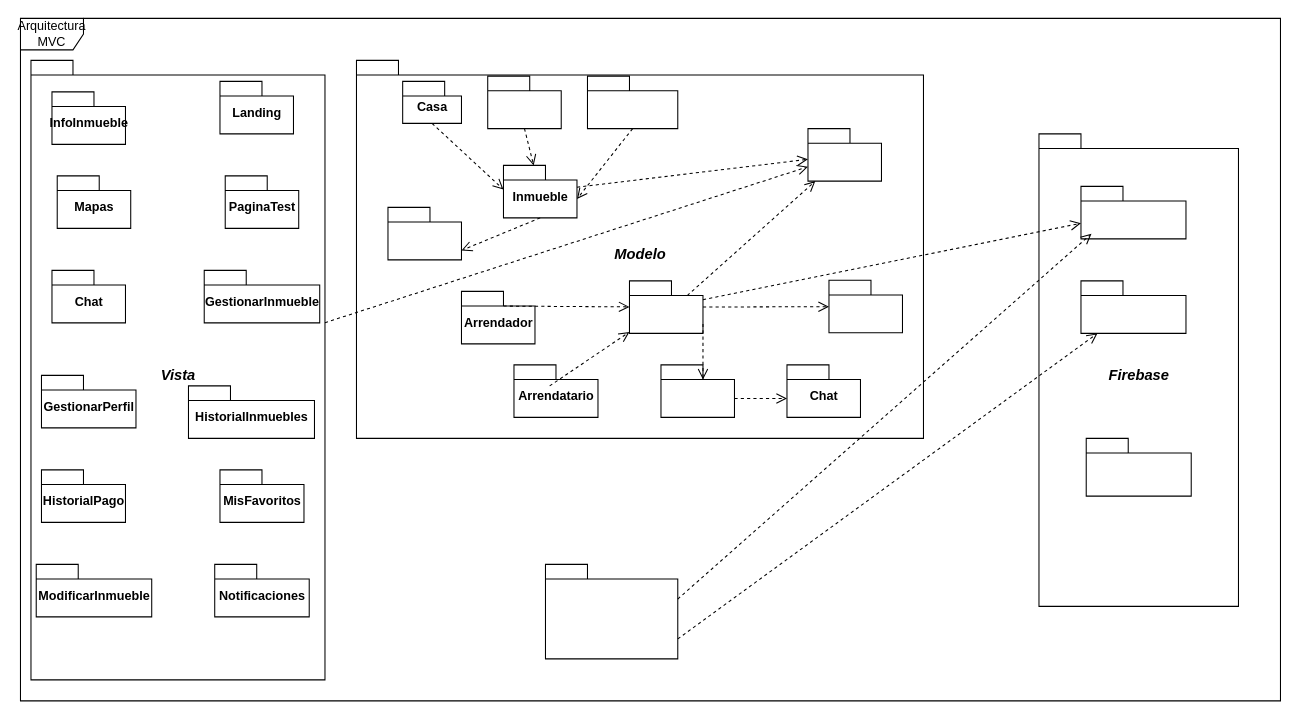
Some shapes in this 1299 by 719 pixel diagram are drawn without their labels. The shapes that lost their labels are listed below. From the top down, each one's centre as x and y in pixels, then its label:
At point 524,102: "Habitacion".
At point 632,102: "Apartamento".
At point 844,154: "SistemaBV".
At point 1133,212: "Autenticación".
At point 424,233: "Servicio".
At point 665,306: "Usuario".
At point 865,306: "Favorito".
At point 1133,306: "Almacenamiento".
At point 697,390: "Mensaje".
At point 1138,466: "Hosting".
At point 611,611: "Controlador".
